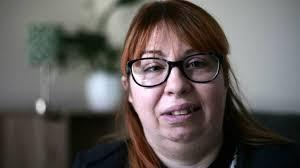strokeEyeMid: (138, 49, 211, 75)
strokeMouthWeak: (157, 101, 207, 125)
